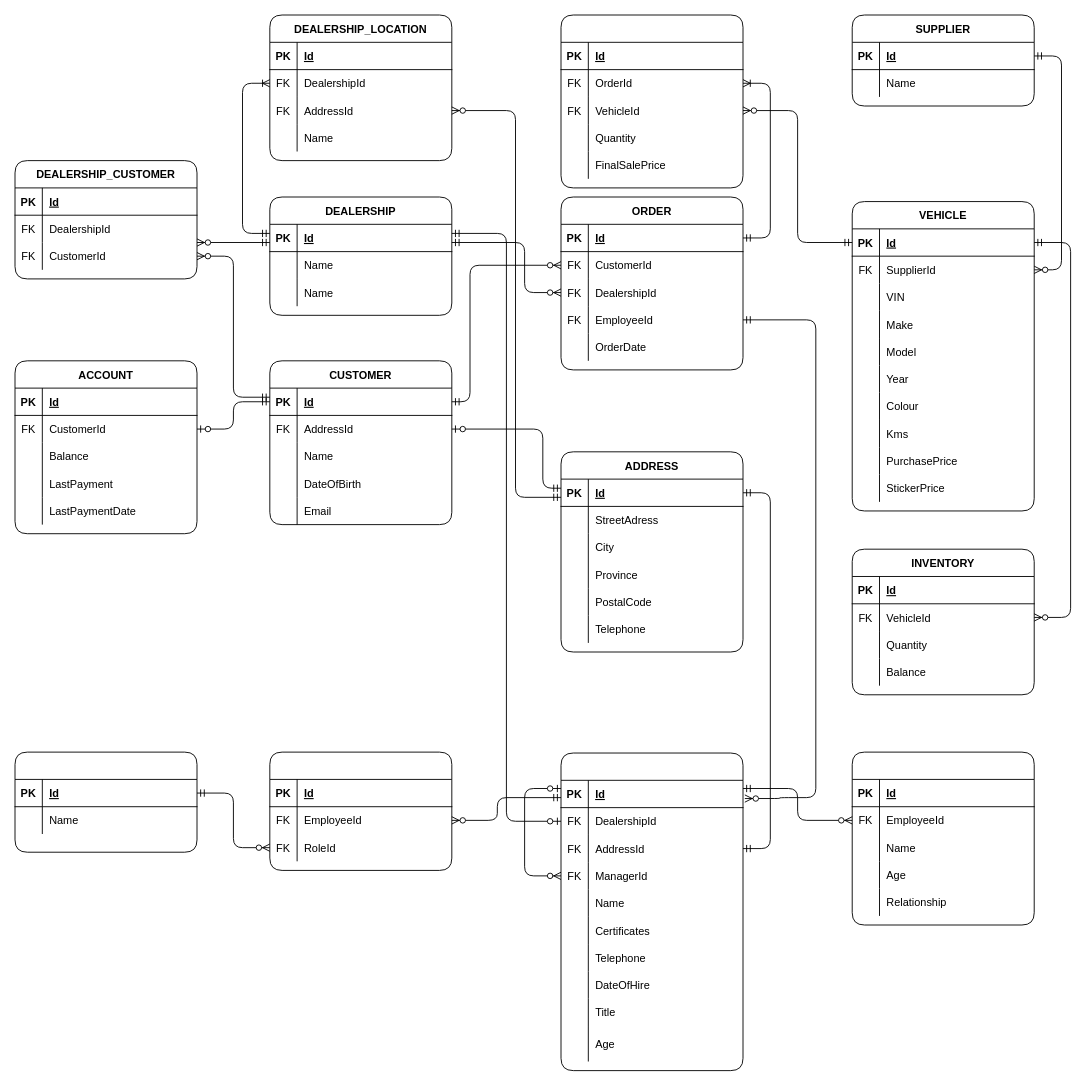
This 1086x1086 diagram has some shape labels left out. Here are the shapes that lost their labels. From the top down, the box of each, then its label:
(560, 14, 743, 188): ORDER_LINE
(14, 751, 197, 852): ROLE
(269, 751, 452, 870): EMPLOYEE_ROLE
(851, 751, 1034, 925): EMPLOYEE_DEPENDENT
(560, 752, 743, 1071): EMPLOYEE
